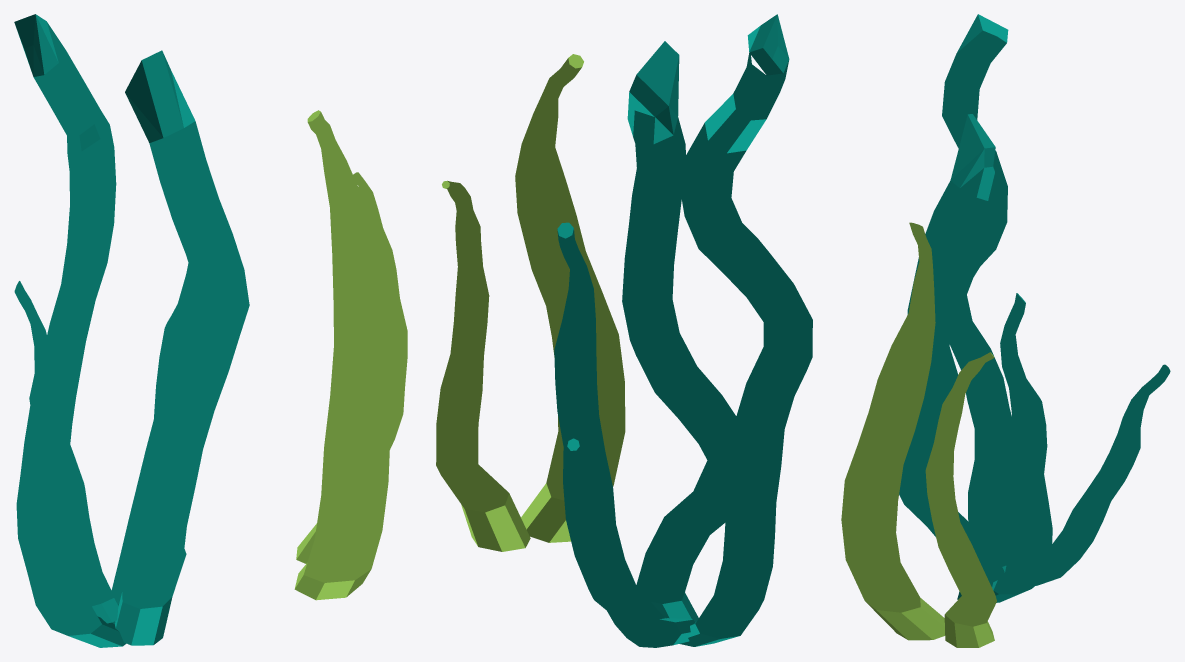
Rendered from Seaweed4.glb.
3 renders of one model, left to right at view 1: azimuth 30°, elevation 25°; view 2: azimuth 150°, elevation 25°; view 3: azimuth 270°, elevation 25°, orthographic. The views are drawn at different scales.
Parts seen in each view (by area): view 1: Node; view 2: Node; view 3: Node.
Boxes of the visible parts, x1,y1,x2,y2 form: Node: [14, 14, 407, 647]; Node: [436, 14, 812, 647]; Node: [841, 14, 1170, 647].
Bounding box in the file's own units: 0.4829 × 0.8166 × 0.4482.
